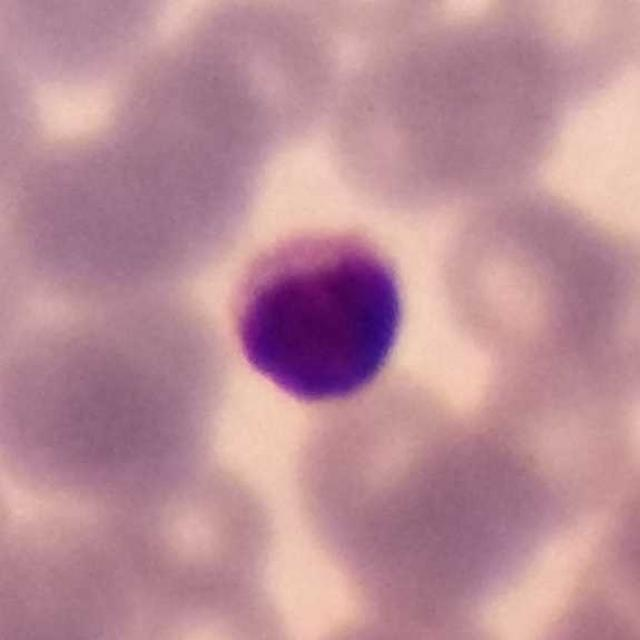Lymphocyte: (217, 217, 420, 415)
RBC: (427, 186, 639, 378), (368, 9, 574, 198), (353, 424, 559, 611), (0, 7, 174, 228), (0, 320, 206, 503), (99, 453, 283, 611), (155, 0, 343, 154), (534, 31, 640, 258), (0, 506, 146, 640), (472, 0, 640, 102), (551, 213, 640, 405), (100, 565, 304, 640), (0, 0, 174, 71), (290, 597, 515, 640), (0, 19, 41, 214), (599, 446, 640, 634), (513, 587, 639, 640)
